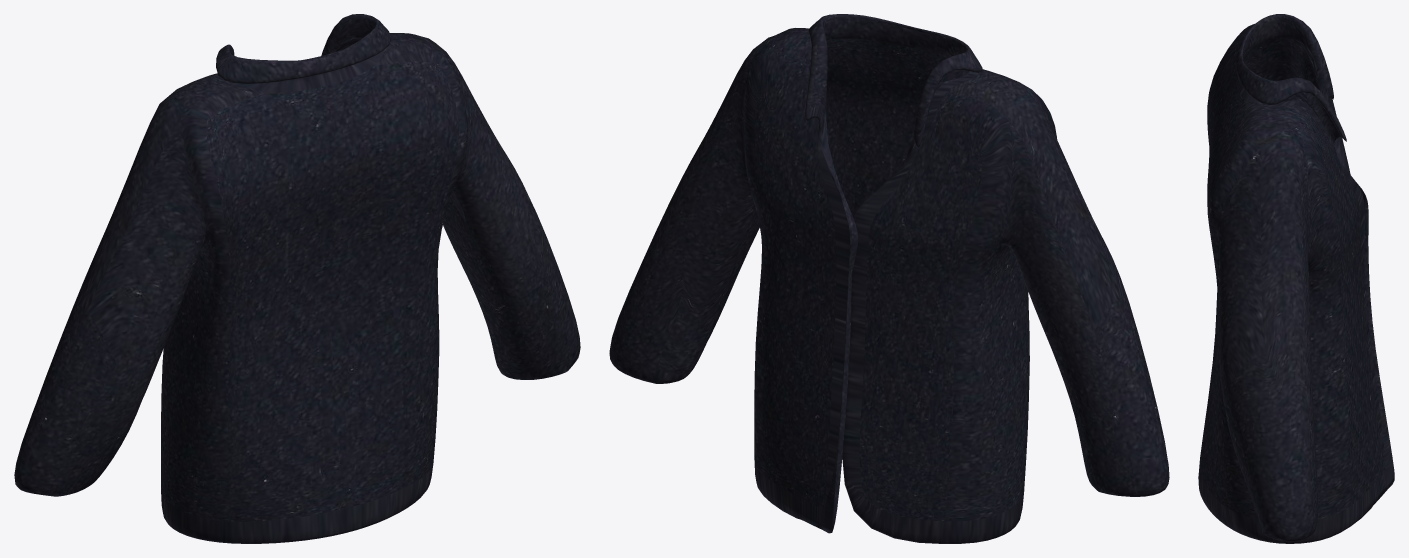
Rendered from Coat.fbx.
3 views of the same model, side by side, from view 1: azimuth 30°, elevation 25°; view 2: azimuth 150°, elevation 25°; view 3: azimuth 270°, elevation 25° (orthographic). The views are drawn at different scales.
Visible parts, largest first — view 1: Coat (Outside); view 2: Coat (Outside), Coat (Inside); view 3: Coat (Outside), Coat (Inside).
Part boxes in pixels (bbox=[...]): Coat (Outside): bbox=[14, 14, 580, 543]; Coat (Outside): bbox=[609, 14, 1169, 543]; Coat (Inside): bbox=[826, 38, 947, 215]; Coat (Outside): bbox=[1198, 14, 1394, 543]; Coat (Inside): bbox=[1244, 38, 1336, 154].
Bounding box in the file's own units: 4.18 × 3.33 × 1.34.
Materials: 1 (1 with a texture image).
